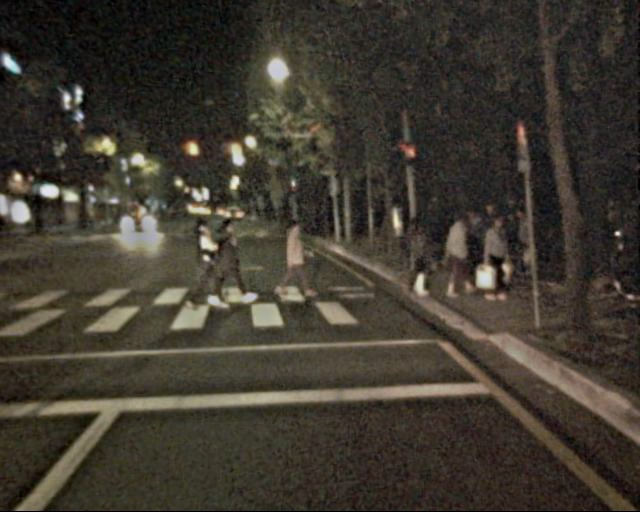person: (186, 218, 223, 308), (442, 215, 477, 300), (210, 217, 244, 301), (480, 220, 514, 303), (276, 220, 309, 300), (399, 215, 431, 294), (477, 200, 507, 273), (510, 208, 539, 278), (494, 210, 521, 275)
